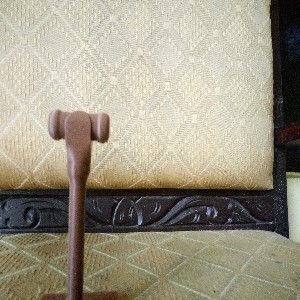palu: (48, 109, 110, 300)
